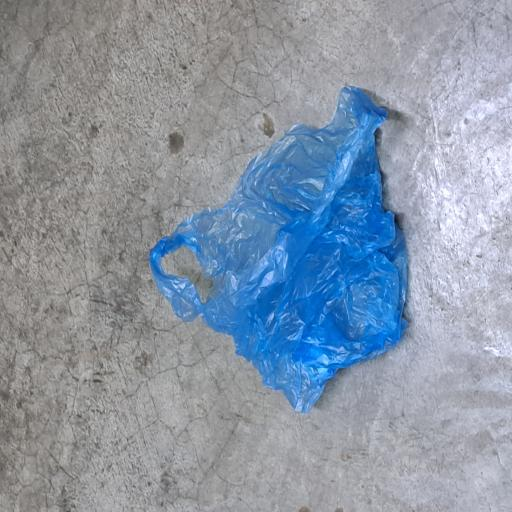plastic bag: (73, 196, 319, 512)
